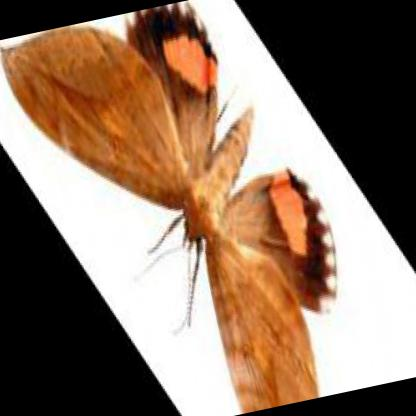fruit sucking moth: (1, 8, 337, 411)
